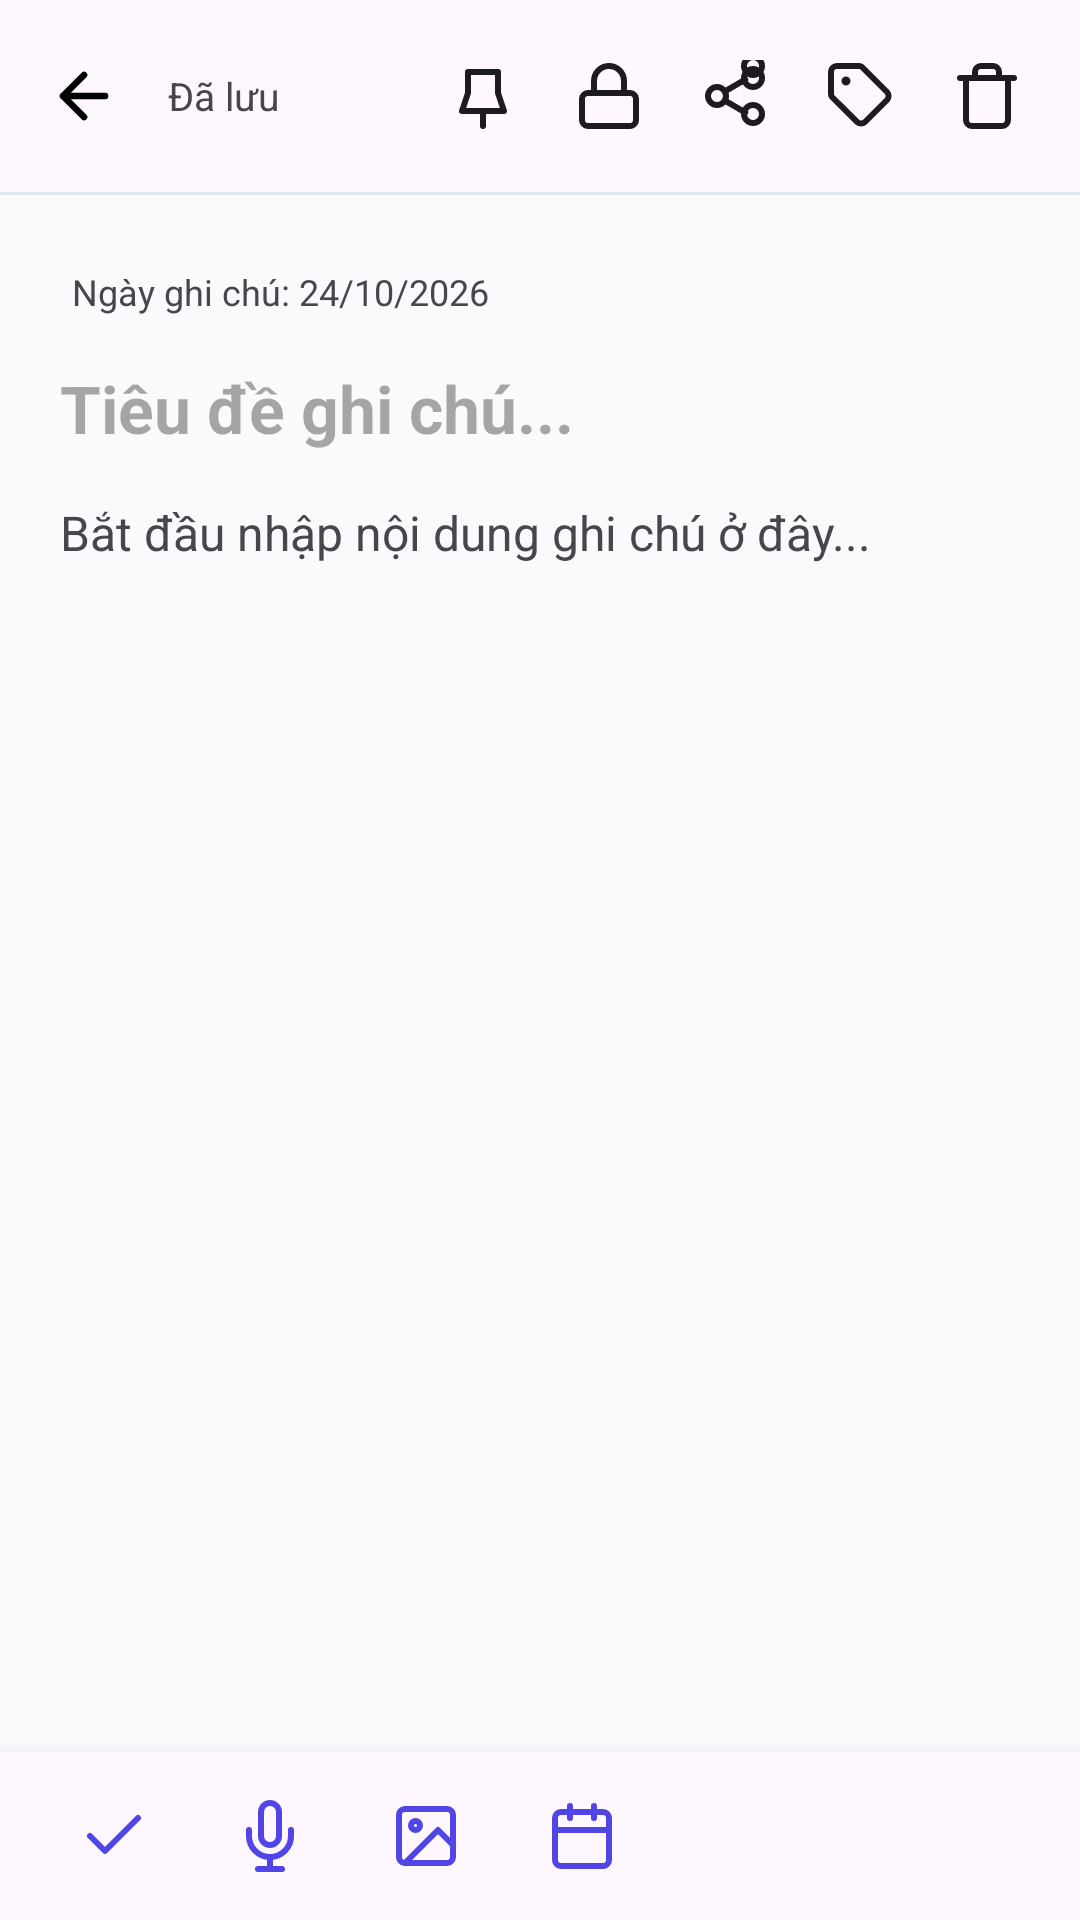

Named icons in this screenshot (1080px x 1920px) and their bounding boxes, (x1, y1, x2, y2):
Bảo vệ bằng mật khẩu: (579, 63, 639, 129)
Chuyển vào thùng rác: (957, 63, 1017, 129)
Chèn danh sách kiểm tra: (87, 1814, 141, 1854)
Ghim: (459, 69, 507, 129)
Nhãn: (828, 63, 892, 127)
Nhập giọng nói: (246, 1800, 294, 1872)
Đính kèm ảnh: (396, 1806, 456, 1866)
Đổi ngày ghi chú: (552, 1803, 612, 1869)
